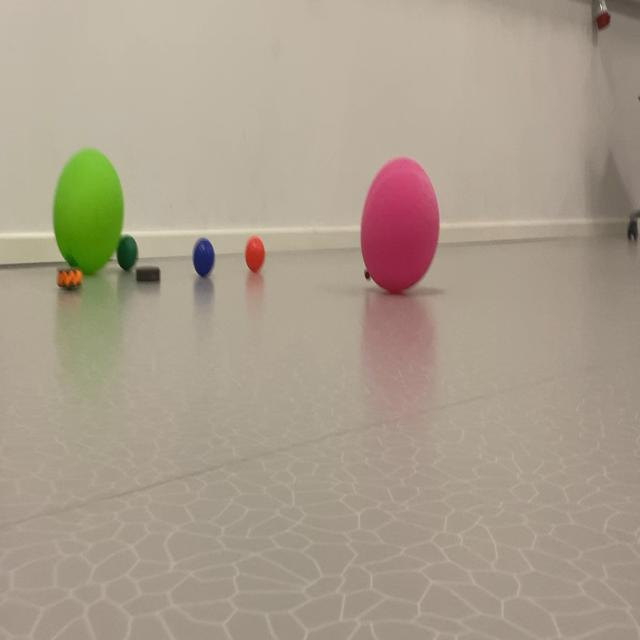7: (238, 197, 301, 325)
green ball: (178, 210, 229, 307)
red ball: (107, 224, 150, 283)
